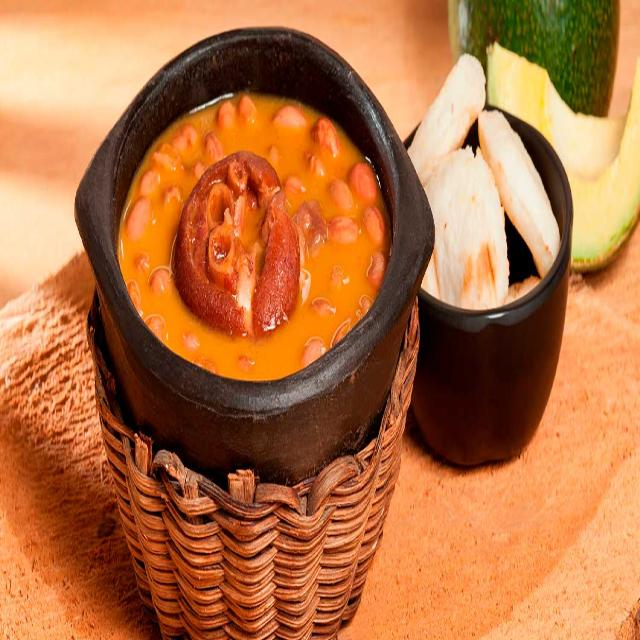frijoles: (124, 79, 390, 357)
yuca: (402, 62, 564, 396)
